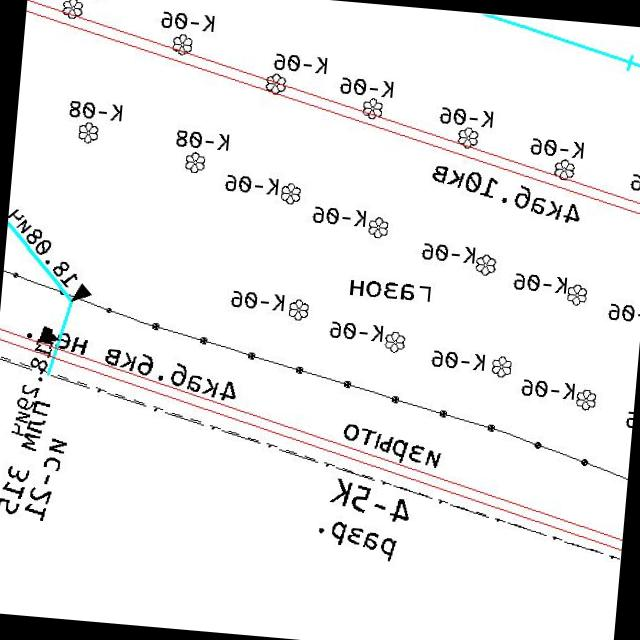bushes: (456, 124, 482, 150), (263, 70, 288, 96), (286, 296, 311, 322), (278, 180, 302, 207), (564, 282, 588, 308), (474, 252, 498, 278), (366, 214, 390, 240), (552, 156, 576, 181), (360, 95, 384, 120), (170, 32, 194, 57), (574, 387, 598, 412), (489, 354, 514, 378), (383, 329, 407, 354), (183, 150, 207, 174), (76, 120, 100, 144), (60, 0, 84, 20)
mark: (70, 281, 94, 304), (36, 326, 59, 344)
